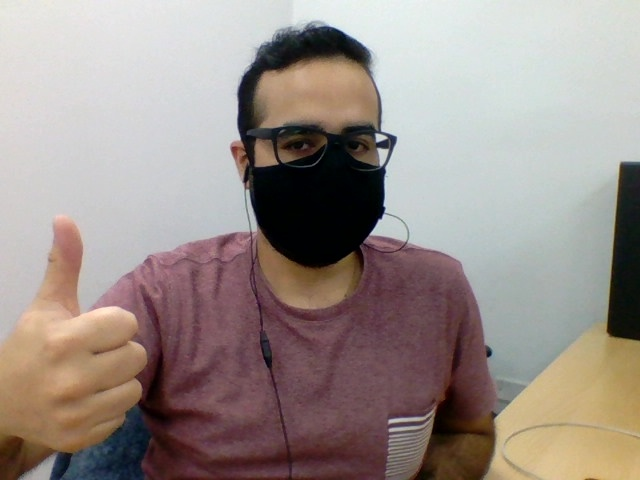ThumbsUp: (1, 215, 148, 455)
